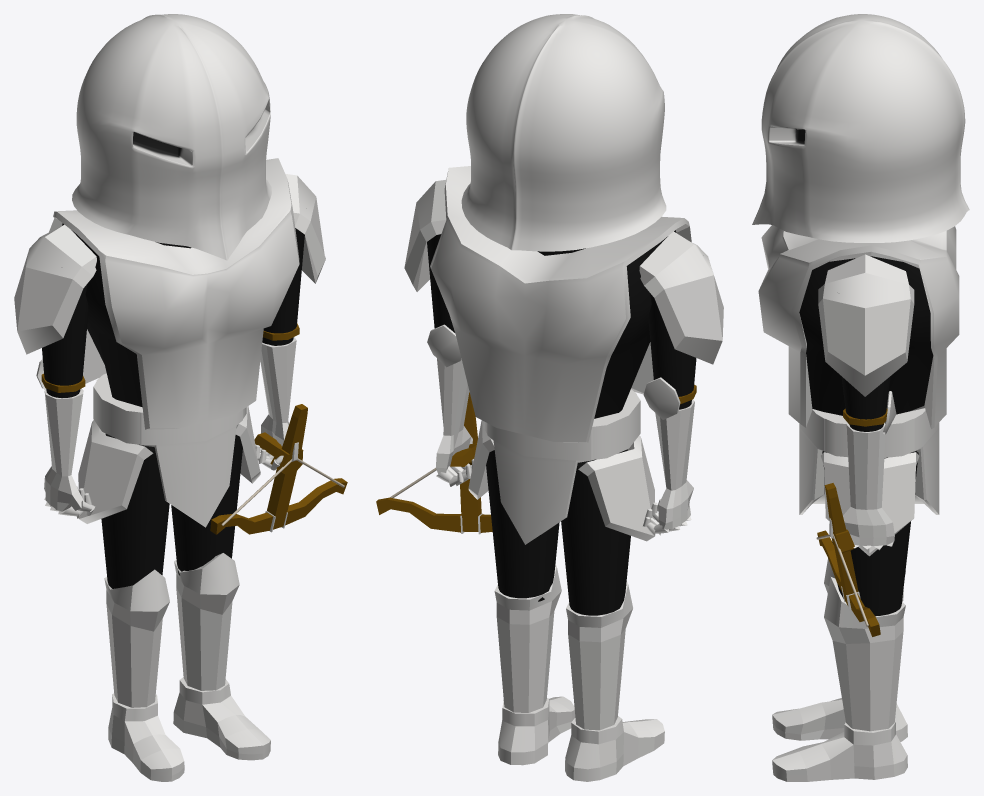
The model's file is short.fbx.
3 renders of one model, left to right at view 1: azimuth 30°, elevation 25°; view 2: azimuth 150°, elevation 25°; view 3: azimuth 270°, elevation 25°, orthographic. The views are drawn at different scales.
Parts seen in each view (by area): view 1: pSphere1, polySurface68, polySurface73, polySurface118, polySurface69, polySurface120, polySurface76, polySurface74, polySurface77, polySurface71, polySurface117, polySurface75 (+1 smaller); view 2: pSphere1, polySurface68, polySurface73, polySurface118, polySurface69, polySurface120, polySurface76, polySurface74, polySurface71, polySurface81, polySurface75, polySurface117 (+1 smaller); view 3: pSphere1, polySurface68, polySurface81, polySurface120, polySurface76, polySurface71, polySurface69, polySurface77, polySurface75.
Boxes of the visible parts, x1,y1,x2,y2 form: pSphere1: [72, 14, 271, 260]; polySurface68: [49, 158, 299, 429]; polySurface73: [78, 420, 169, 588]; polySurface118: [14, 224, 96, 392]; polySurface69: [93, 373, 246, 527]; polySurface120: [210, 337, 347, 534]; polySurface76: [174, 553, 239, 690]; polySurface74: [104, 569, 169, 707]; polySurface77: [173, 677, 270, 760]; polySurface71: [171, 406, 260, 575]; polySurface117: [44, 388, 95, 518]; polySurface75: [108, 693, 184, 781]; pSphere1: [461, 14, 666, 251]; polySurface68: [430, 166, 691, 442]; polySurface73: [561, 435, 655, 615]; polySurface118: [639, 231, 723, 419]; polySurface69: [483, 389, 640, 544]; polySurface120: [376, 358, 492, 534]; polySurface76: [494, 564, 561, 712]; polySurface74: [566, 581, 632, 730]; polySurface71: [468, 420, 559, 601]; polySurface81: [404, 180, 461, 367]; polySurface75: [565, 716, 664, 781]; polySurface117: [643, 399, 694, 536]; pSphere1: [752, 14, 969, 242]; polySurface68: [758, 225, 959, 429]; polySurface81: [818, 254, 914, 434]; polySurface120: [816, 423, 894, 636]; polySurface76: [824, 577, 905, 731]; polySurface71: [821, 451, 919, 616]; polySurface69: [799, 408, 939, 514]; polySurface77: [772, 721, 907, 781]; polySurface75: [772, 698, 907, 741].
Bounding box in the file's own units: 22.7 × 46.74 × 12.61.
